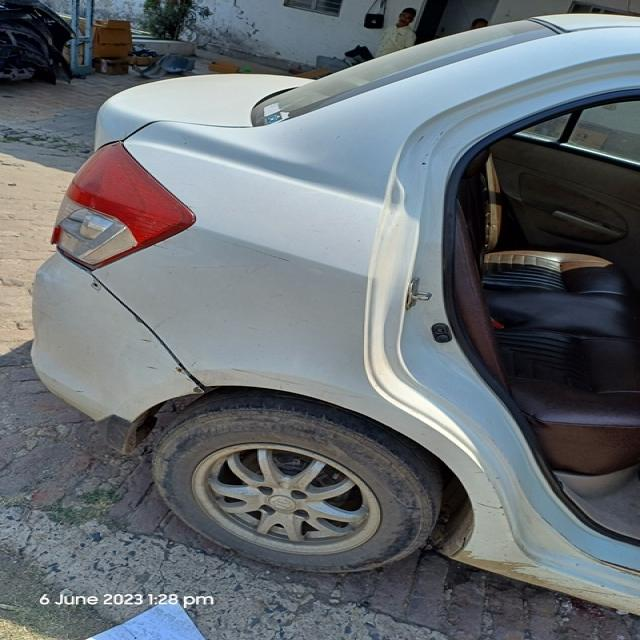damage: (82, 274, 109, 300), (172, 366, 189, 376)
